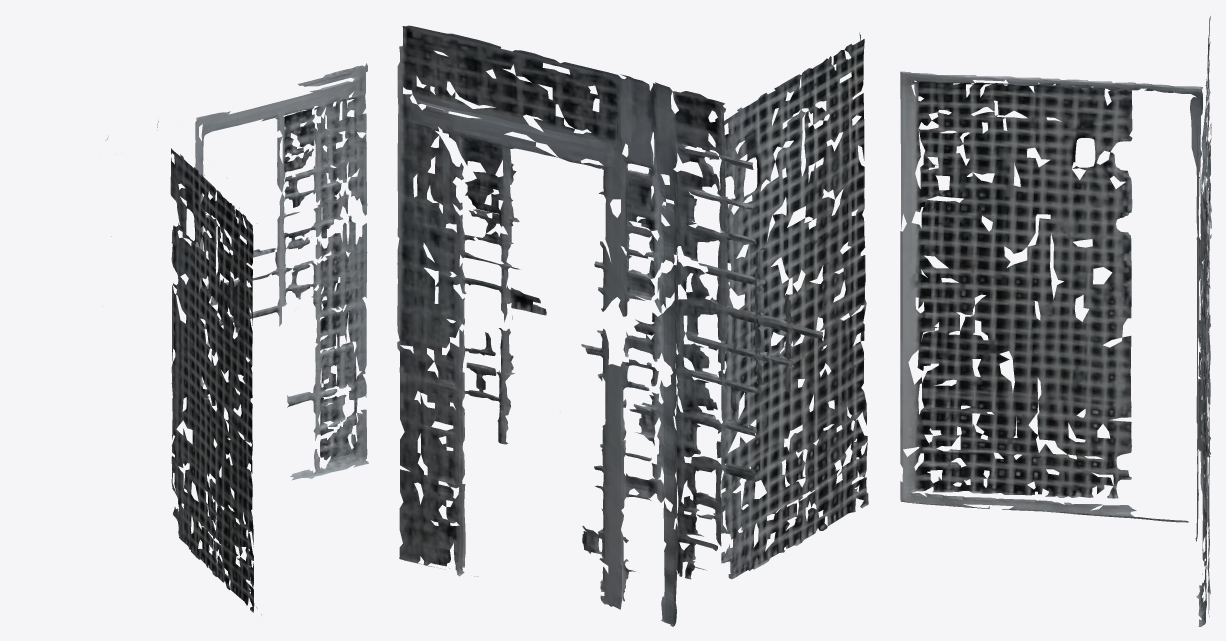
The picture shows the model from 3 angles, left to right: view 1: azimuth 30°, elevation 25°; view 2: azimuth 150°, elevation 25°; view 3: azimuth 270°, elevation 25°; orthographic projection. The views are drawn at different scales.
Visible parts, largest first — view 1: geometry_0; view 2: geometry_0; view 3: geometry_0.
Boxes of the visible parts, x1,y1,x2,y2 form: geometry_0: [105, 63, 368, 614]; geometry_0: [397, 25, 868, 626]; geometry_0: [900, 16, 1211, 626].
Size of the model in its own units: 0.4886 by 0.6029 by 0.3543.
1 material, 1 textured.
